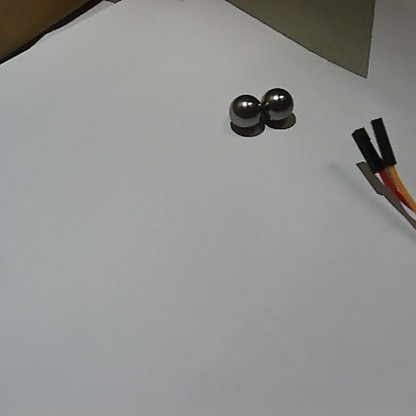ironball: (227, 93, 263, 131), (257, 85, 296, 120)
